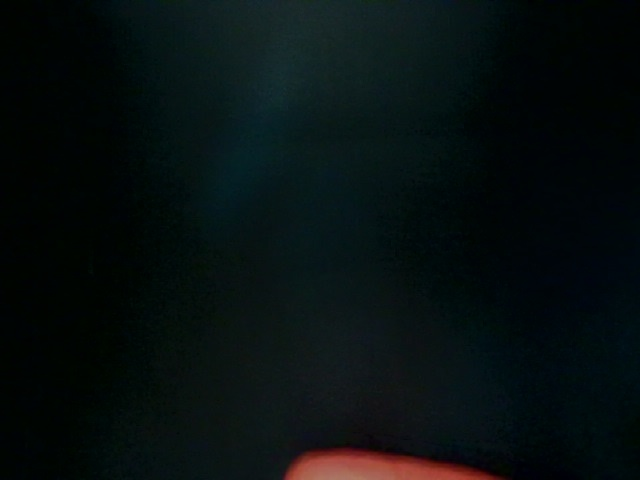QTLJ: (11, 139, 196, 420)
